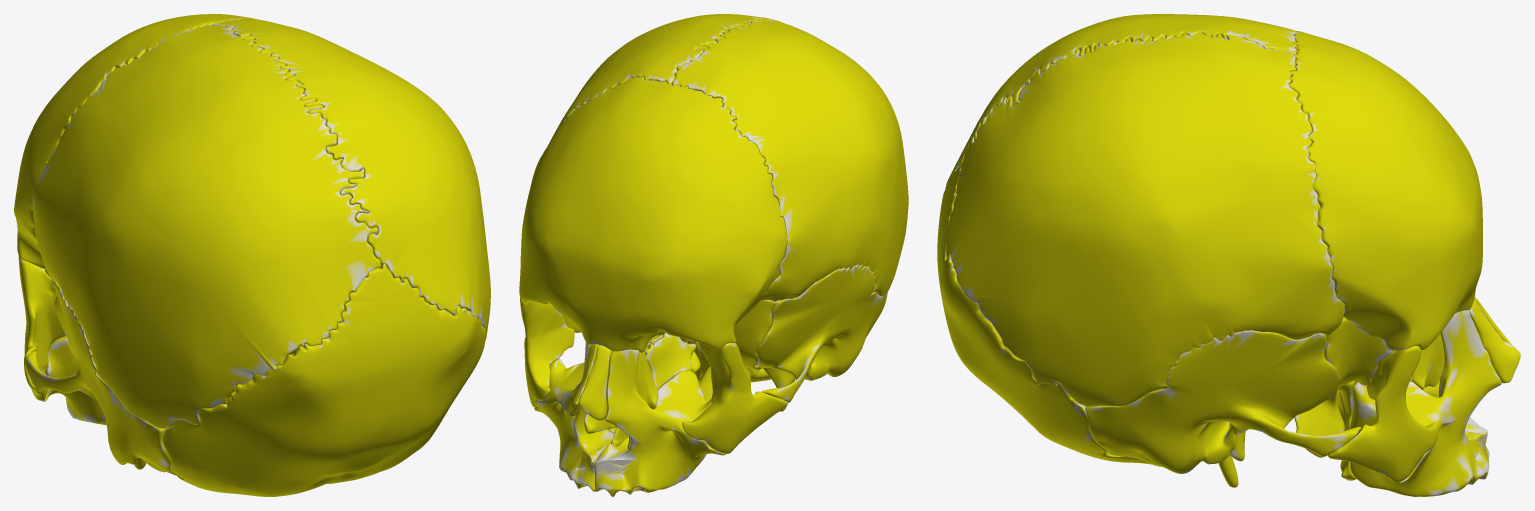
The model's file is cranium_without_mandible_no_teeth.glb.
3 views of the same model, side by side, from view 1: azimuth 30°, elevation 25°; view 2: azimuth 150°, elevation 25°; view 3: azimuth 270°, elevation 25° (orthographic). The views are drawn at different scales.
Visible parts, largest first — view 1: parietal_bone_L, occipital_bone, parietal_bone_R, frontal_bone, temporal_bone_L, zygomatic_bone_L, maxilla_L; view 2: frontal_bone, parietal_bone_L, maxilla_L, temporal_bone_L, parietal_bone_R, zygomatic_bone_L, maxilla_R, zygomatic_bone_R, sphenoid_bone, ethmoid, nasal_bone_L, lacrimal_bone_L (+1 smaller); view 3: parietal_bone_R, frontal_bone, temporal_bone_R, maxilla_R, occipital_bone, parietal_bone_L, zygomatic_bone_R, sphenoid_bone, nasal_bone_R, lacrimal_bone_R, palatine_bone_R.
Part boxes in pixels (x1,y1,x2,y2): parietal_bone_L: [32, 25, 381, 428]; occipital_bone: [163, 264, 485, 496]; parietal_bone_R: [212, 19, 490, 340]; frontal_bone: [14, 14, 256, 269]; temporal_bone_L: [25, 277, 178, 475]; zygomatic_bone_L: [18, 255, 65, 400]; maxilla_L: [42, 336, 106, 424]; frontal_bone: [519, 76, 787, 352]; parietal_bone_L: [672, 18, 908, 301]; maxilla_L: [594, 349, 725, 496]; temporal_bone_L: [755, 264, 887, 411]; parietal_bone_R: [531, 14, 773, 181]; zygomatic_bone_L: [682, 342, 787, 453]; maxilla_R: [534, 343, 614, 491]; zygomatic_bone_R: [520, 298, 574, 407]; sphenoid_bone: [561, 300, 774, 402]; ethmoid: [644, 332, 696, 389]; nasal_bone_L: [579, 345, 610, 420]; lacrimal_bone_L: [636, 351, 658, 409]; parietal_bone_R: [946, 32, 1344, 406]; frontal_bone: [1288, 30, 1482, 351]; temporal_bone_R: [1085, 330, 1360, 487]; maxilla_R: [1350, 310, 1501, 496]; occipital_bone: [937, 166, 1151, 464]; parietal_bone_L: [945, 14, 1297, 188]; zygomatic_bone_R: [1328, 345, 1438, 483]; sphenoid_bone: [1294, 317, 1391, 457]; nasal_bone_R: [1469, 300, 1520, 383]; lacrimal_bone_R: [1412, 333, 1444, 389]; palatine_bone_R: [1336, 381, 1356, 480].
Bounding box in the file's own units: 0.1509 × 0.1722 × 0.2086.
